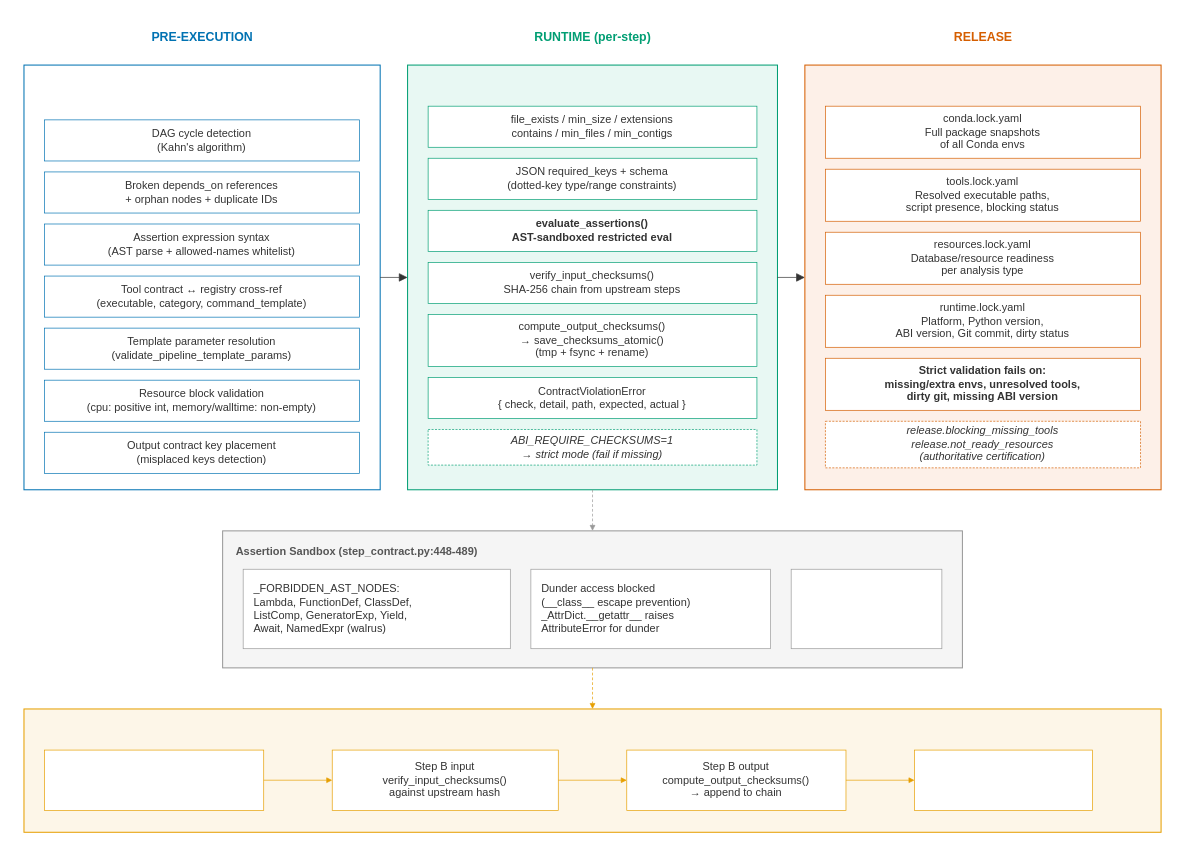
Some shapes in this 1185 by 856 pixel diagram are drawn without their labels. The shapes that lost their labels are listed below. From the top down, each one's box as (x1, y1, x2, y2) in pixels, then its label:
(23, 64, 380, 490): contract-lint (contracts/lint.py) — abi contract-lint [--strict]
(406, 64, 777, 490): step_contract.py — validate_output_contract()
(804, 64, 1161, 490): runtime_lock.py — abi lock-runtime [--strict]
(790, 568, 942, 648): eval() with {"__builtins__": {}} + restricted namespace
(44, 749, 263, 810): Step A output compute_file_checksum() → checksums.json
(23, 708, 1161, 832): SHA-256 Checksum Chain (inter-step integrity)
(914, 749, 1092, 810): Step C ... chain continues tamper-evident
